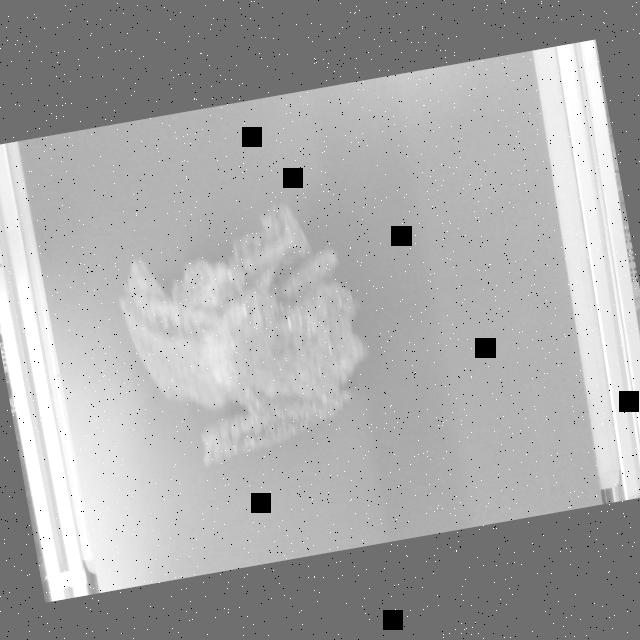scrap_plastic: (104, 191, 382, 476)
